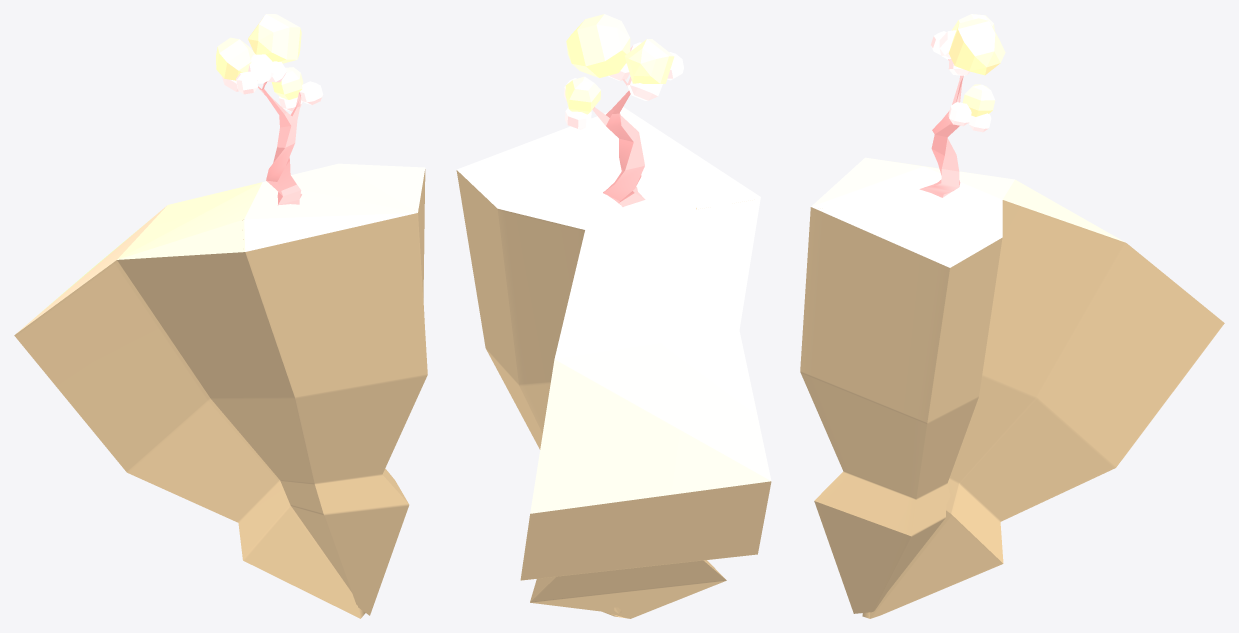
Rendered from chunk5.fbx.
3 renders of one model, left to right at view 1: azimuth 30°, elevation 25°; view 2: azimuth 150°, elevation 25°; view 3: azimuth 270°, elevation 25°, orthographic. The views are drawn at different scales.
Visible parts, largest first — view 1: chunk5; view 2: chunk5; view 3: chunk5.
Part boxes in pixels (x1,y1,x2,y2): chunk5: [14, 14, 427, 618]; chunk5: [456, 14, 771, 618]; chunk5: [800, 14, 1224, 618].
Size of the model in its own units: 4.31 by 6.84 by 4.54.
